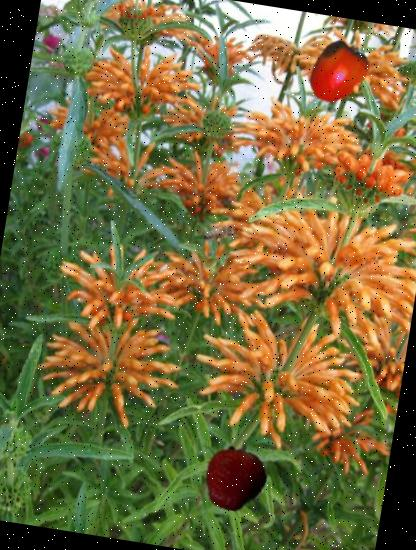Kaki: (300, 35, 374, 109)
Strawberry: (196, 433, 280, 518)
